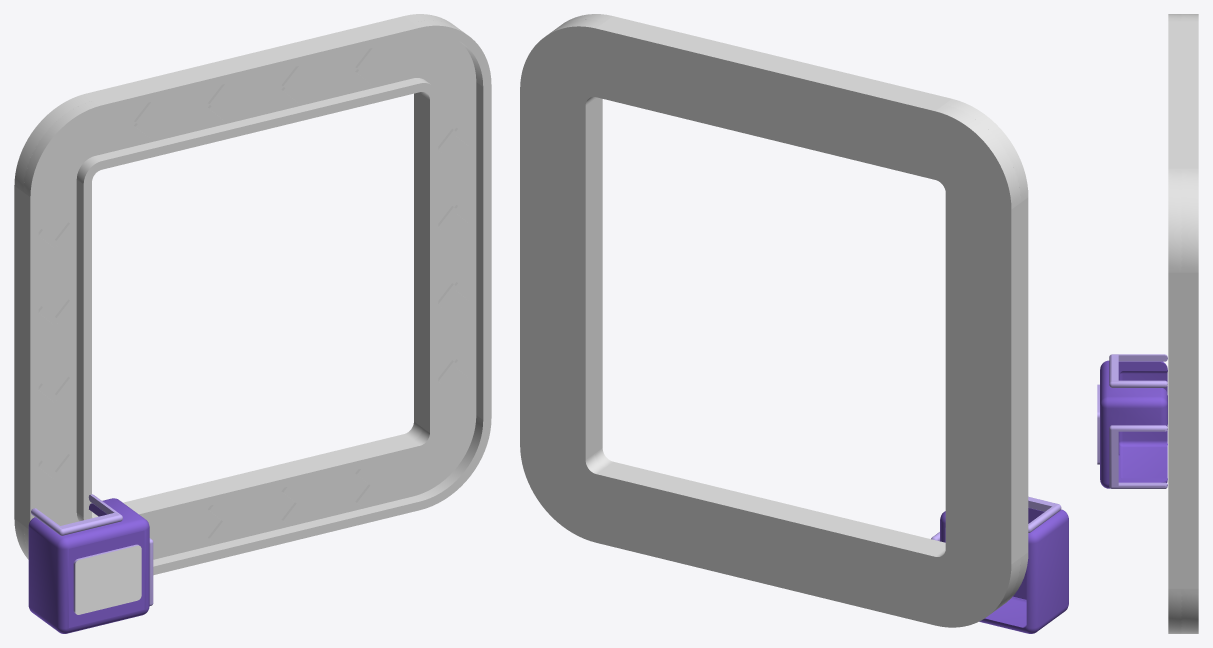
Rendered from yenimodel2.fbx.
3 renders of one model, left to right at view 1: azimuth 30°, elevation 25°; view 2: azimuth 150°, elevation 25°; view 3: azimuth 270°, elevation 25°, orthographic. The views are drawn at different scales.
Parts seen in each view (by area): view 1: Belt_Left, Belt_Top, Belt_Right, Machine_Housing_With_Visible_Panel, Belt_Bottom, RailInner_Right, RailOuter_Right, RailInner_Left, RailOuter_Left, RailOuter_Top, RailInner_Top, RailInner_Bottom (+8 smaller); view 2: Belt_Left, Belt_Right, Belt_Bottom, Belt_Top, Belt_Corner_TL, Machine_Housing_With_Visible_Panel, Belt_Corner_BL, Belt_Corner_TR, Belt_Corner_BR, RailOuter_Left, RailInner_Right, RailOuter_Top (+2 smaller); view 3: Machine_Housing_With_Visible_Panel, Belt_Right, RailOuter_Right, Belt_Top, RailOuter_Top, Belt_Corner_TR, RailOuter_Corner_TR, Machine_Outlet_Collar, Machine_Inlet_Collar, Belt_Corner_BR, RailOuter_Corner_BR.
Boxes of the visible parts, x1,y1,x2,y2 form: Belt_Left: (14,179,76,525); Belt_Top: (86,16,412,155); Belt_Right: (414,82,476,427); Machine_Housing_With_Visible_Panel: (28,498,149,633); Belt_Bottom: (92,434,412,559); RailInner_Right: (423,95,438,432); RailOuter_Right: (476,82,491,419); RailInner_Left: (76,180,91,517); RailOuter_Left: (23,193,38,528); RailOuter_Top: (95,22,419,113); RailInner_Top: (95,78,419,169); RailInner_Bottom: (132,440,419,520); Belt_Left: (945,193,1020,564); Belt_Right: (520,89,595,460); Belt_Bottom: (596,467,944,625); Belt_Top: (596,21,943,179); Belt_Corner_TL: (935,104,1020,209); Machine_Housing_With_Visible_Panel: (940,508,1068,633); Belt_Corner_BL: (935,548,1020,627); Belt_Corner_TR: (520,19,605,105); Belt_Corner_BR: (520,444,604,542); RailOuter_Left: (1020,197,1028,557); RailInner_Right: (594,97,602,452); RailOuter_Top: (606,16,951,104); Machine_Housing_With_Visible_Panel: (1097,360,1167,488); Belt_Right: (1181,272,1198,588); RailOuter_Right: (1168,272,1182,588); Belt_Top: (1181,21,1198,168); RailOuter_Top: (1168,21,1182,168); Belt_Corner_TR: (1181,168,1198,272); RailOuter_Corner_TR: (1168,168,1182,272); Machine_Outlet_Collar: (1109,425,1167,488); Machine_Inlet_Collar: (1109,354,1167,387); Belt_Corner_BR: (1181,588,1198,633); RailOuter_Corner_BR: (1168,588,1182,633).
Bounding box in the file's own units: 1012 × 1012 × 201.
